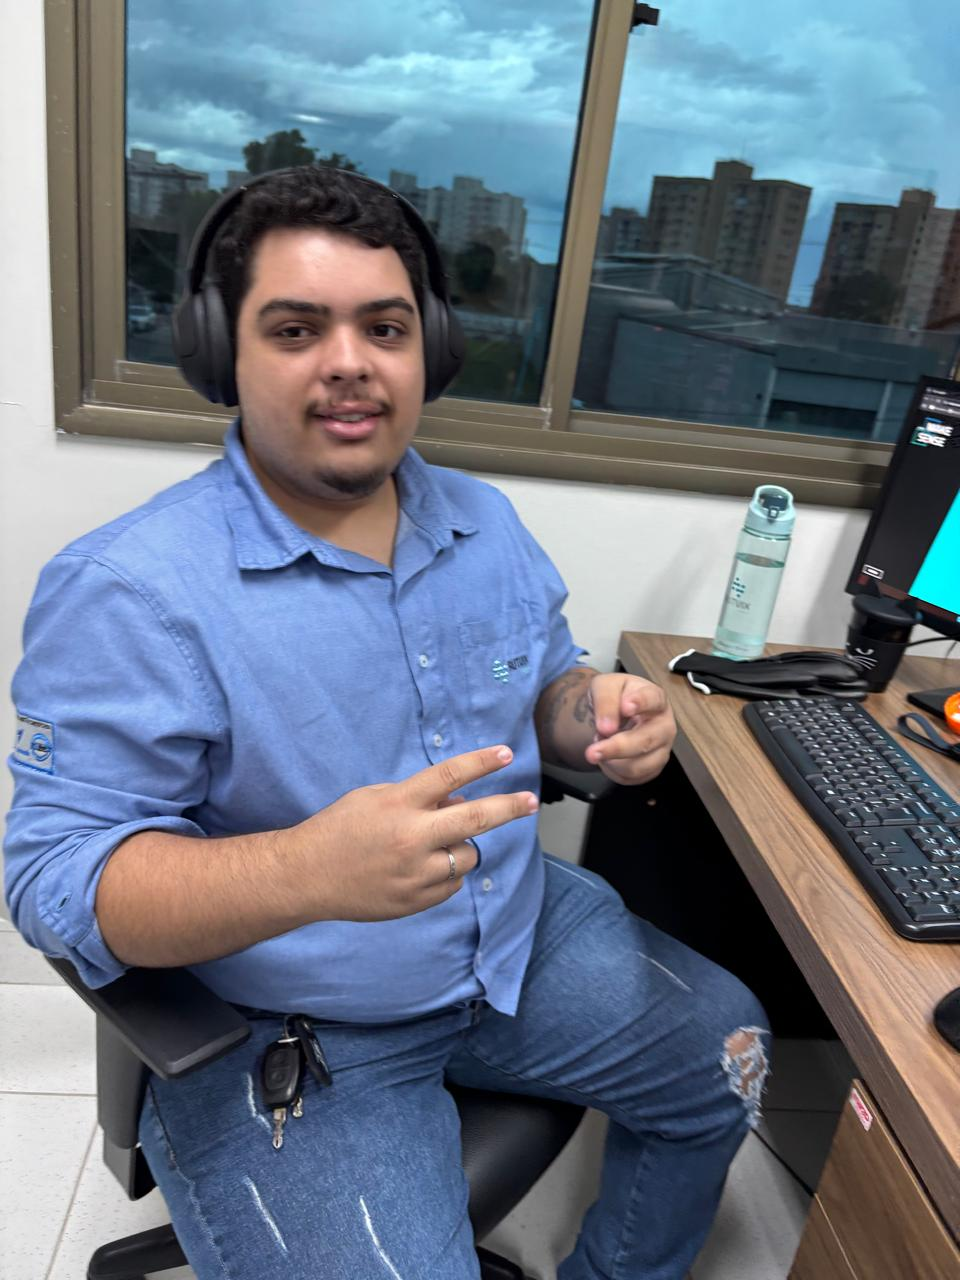no-gloves: (295, 741, 541, 924), (572, 669, 679, 789)
